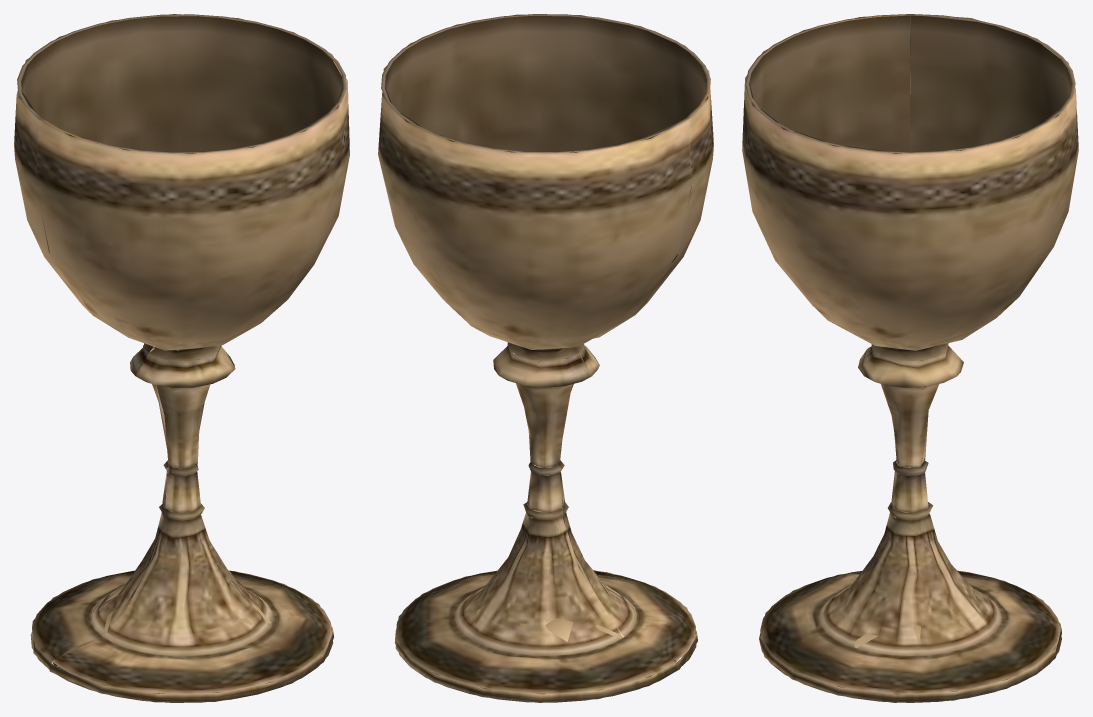
The model's file is goblet_c.glb.
The picture shows the model from 3 angles, left to right: view 1: azimuth 30°, elevation 25°; view 2: azimuth 150°, elevation 25°; view 3: azimuth 270°, elevation 25°; orthographic projection.
Parts seen in each view (by area): view 1: brass_goblet_03; view 2: brass_goblet_03; view 3: brass_goblet_03.
Boxes of the visible parts, x1,y1,x2,y2 form: brass_goblet_03: (14,14,349,702); brass_goblet_03: (378,14,713,702); brass_goblet_03: (742,14,1078,702).
Size of the model in its own units: 0.1496 by 0.2722 by 0.1496.
1 material, 1 textured.
